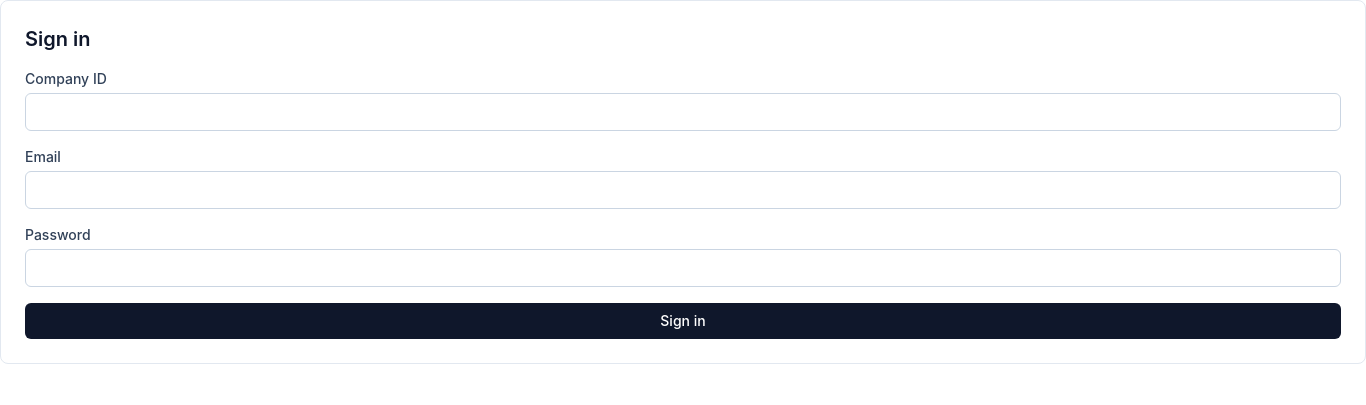
Scenario: LoginPage › shows backend validation field errors
Type "10" into the field labelled "Company ID". click: [683, 112]
box: [25,93,1341,131]
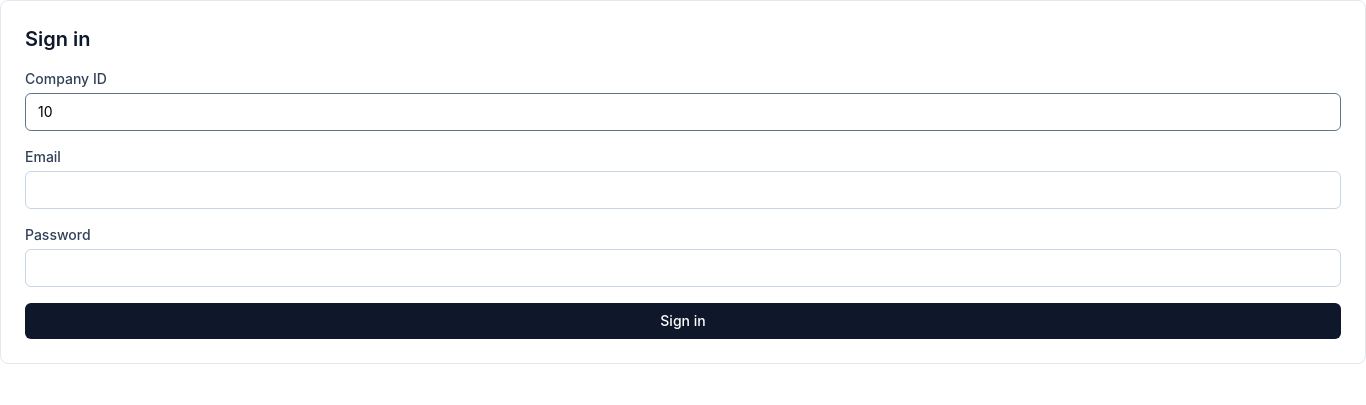
Type "alice@example.com" into the field labelled "Email". click: [683, 190]
box: [25,171,1341,209]
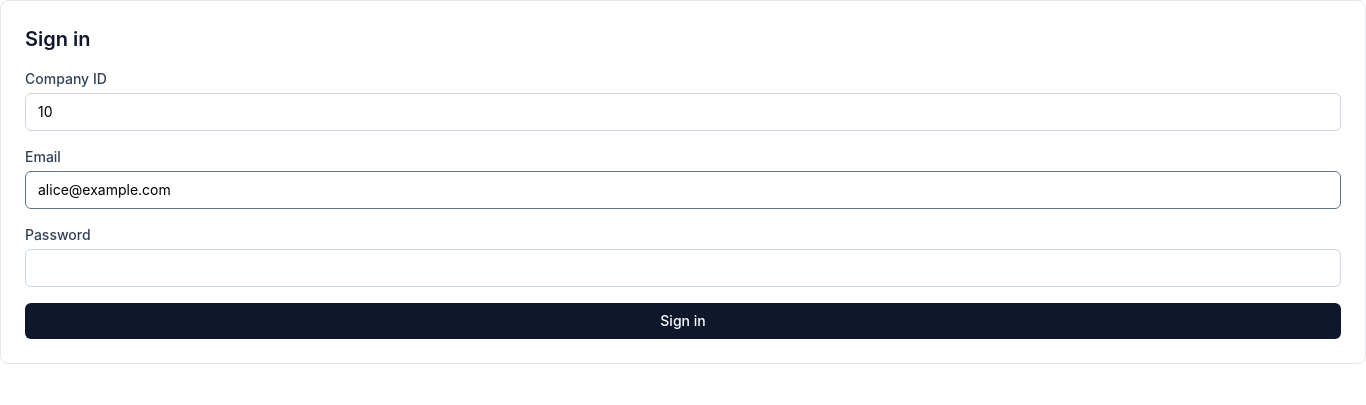
Type "secret" into the password field labelled "Password". click: [683, 268]
box: [25,249,1341,287]
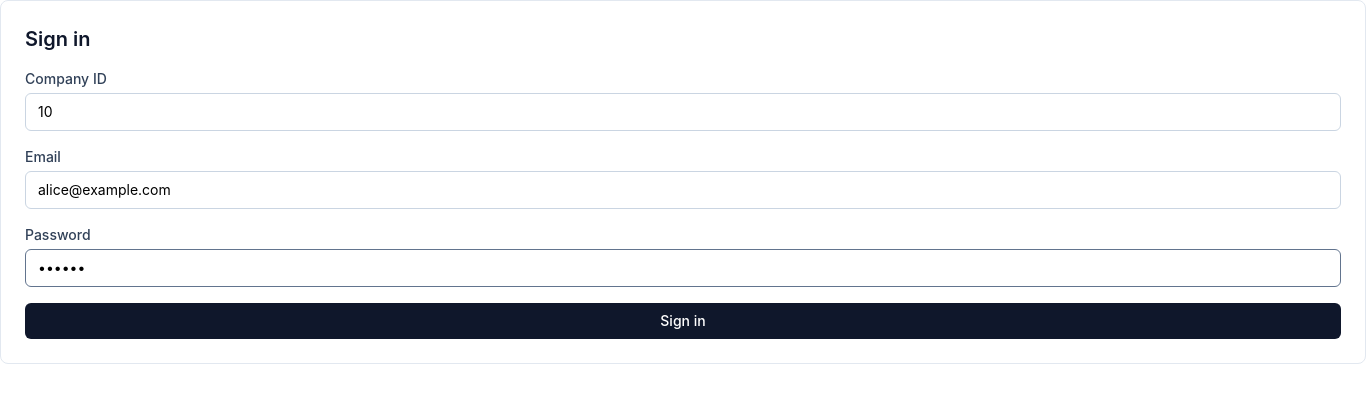
Click the button "Sign in". click: [683, 321]
box: [25,303,1341,339]
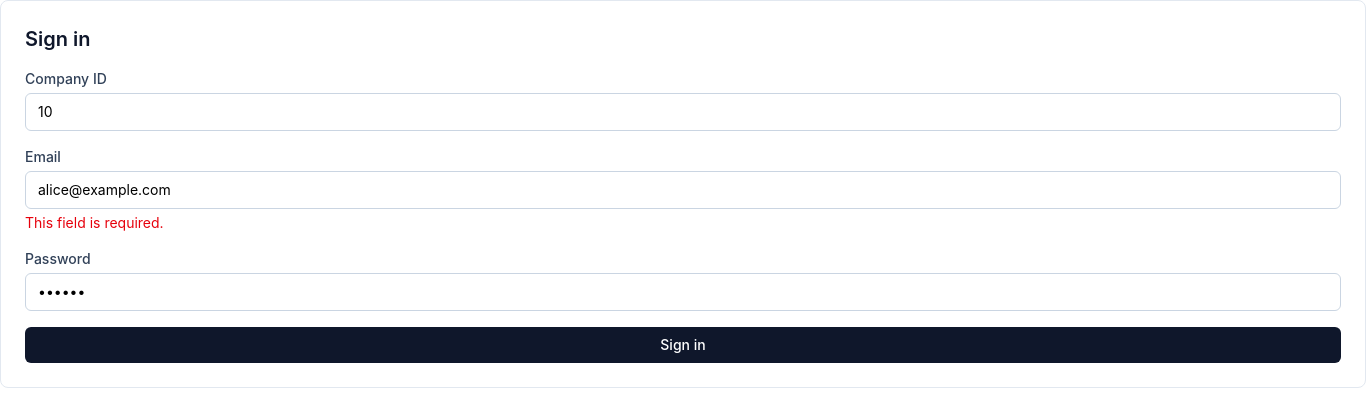
Now the text "This field is required." is shown, box [25,214,164,231]
